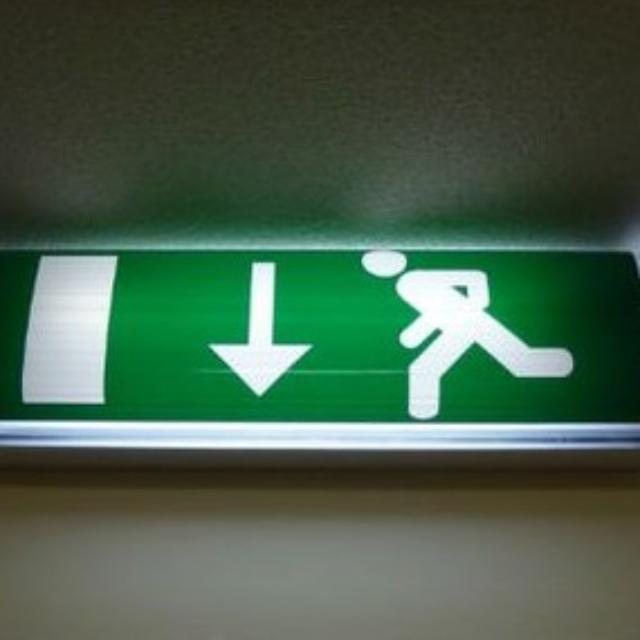exit: (0, 249, 638, 456)
